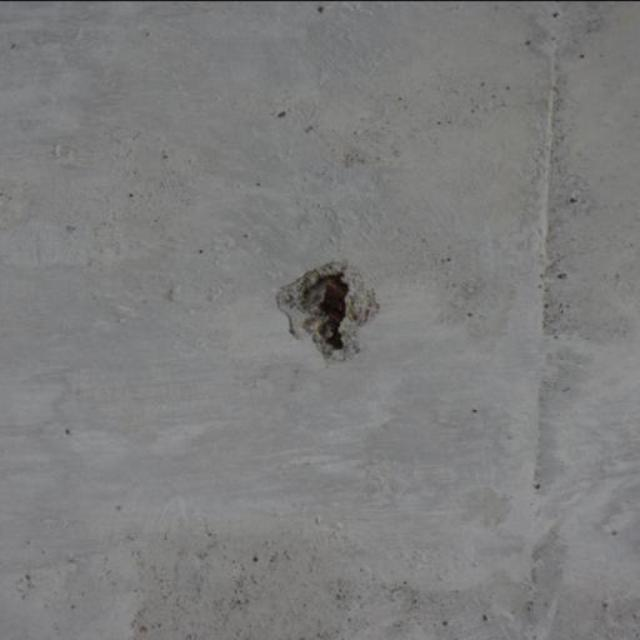D10: (278, 262, 381, 358)
